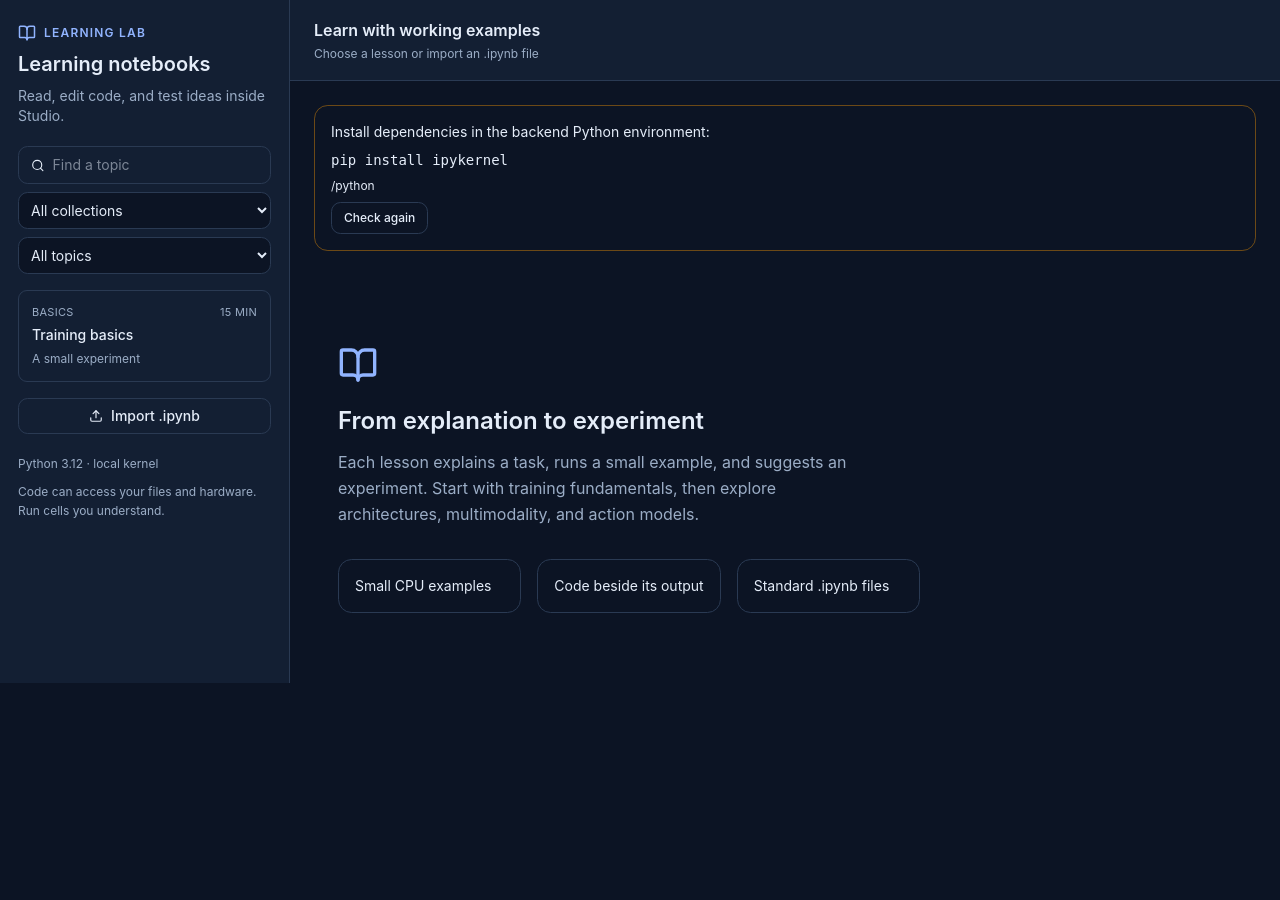
Test: shows missing dependency instructions while keeping lessons readable
Click the text "Training basics" at [83, 334], box top-left (32, 326), bottom-right (133, 342)
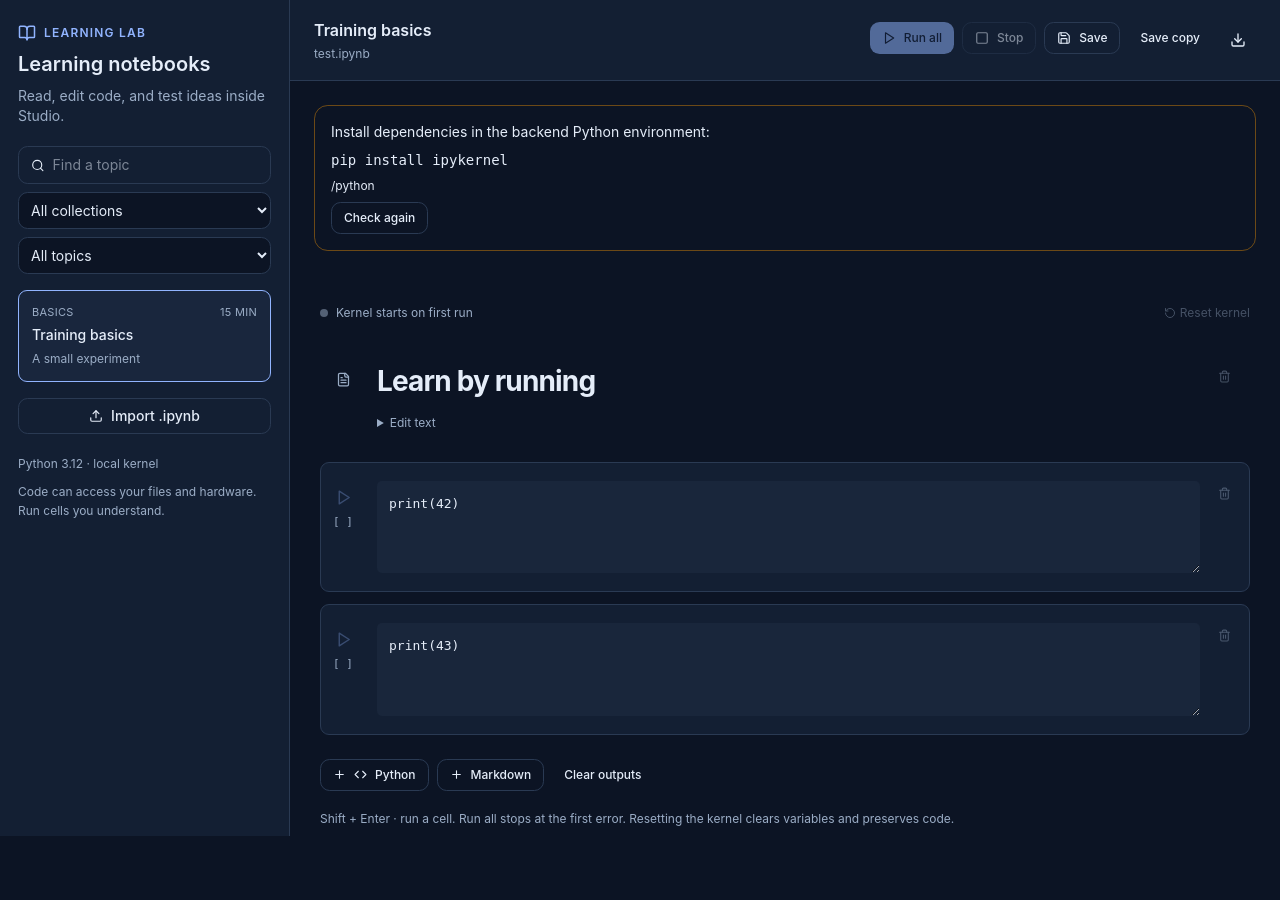
Expected: the heading "Learn by running" is shown, top-left (377, 364), bottom-right (595, 398)
Expected: the button "Run all" is disabled, top-left (870, 22), bottom-right (954, 54)
Expected: the text box named "Cell code 2" holds "print(42)", top-left (377, 481), bottom-right (1200, 573)
